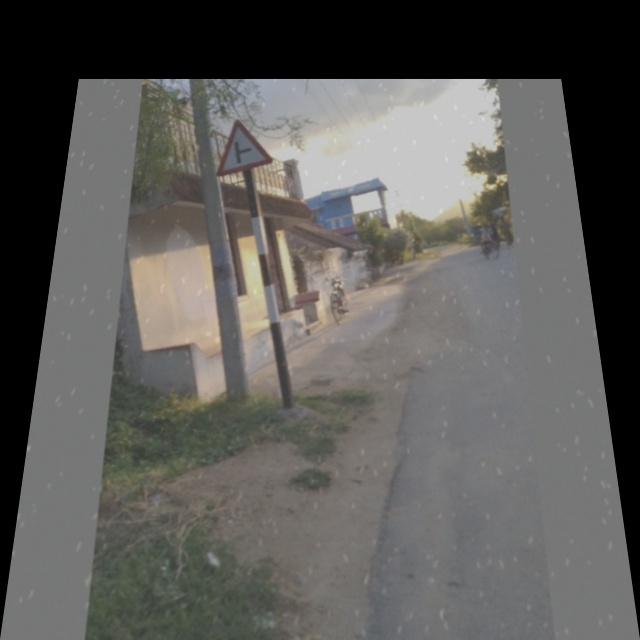Side_Road_Right: (212, 119, 282, 174)
